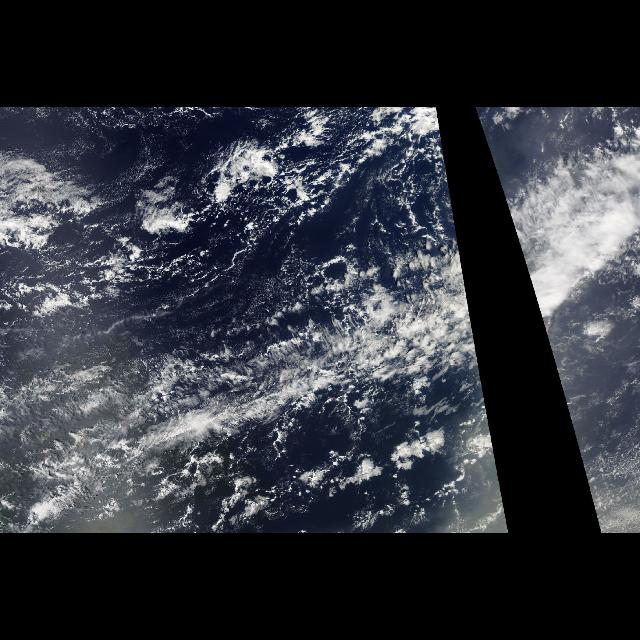Fish: (19, 327, 484, 485)
Gravel: (56, 211, 216, 287)
